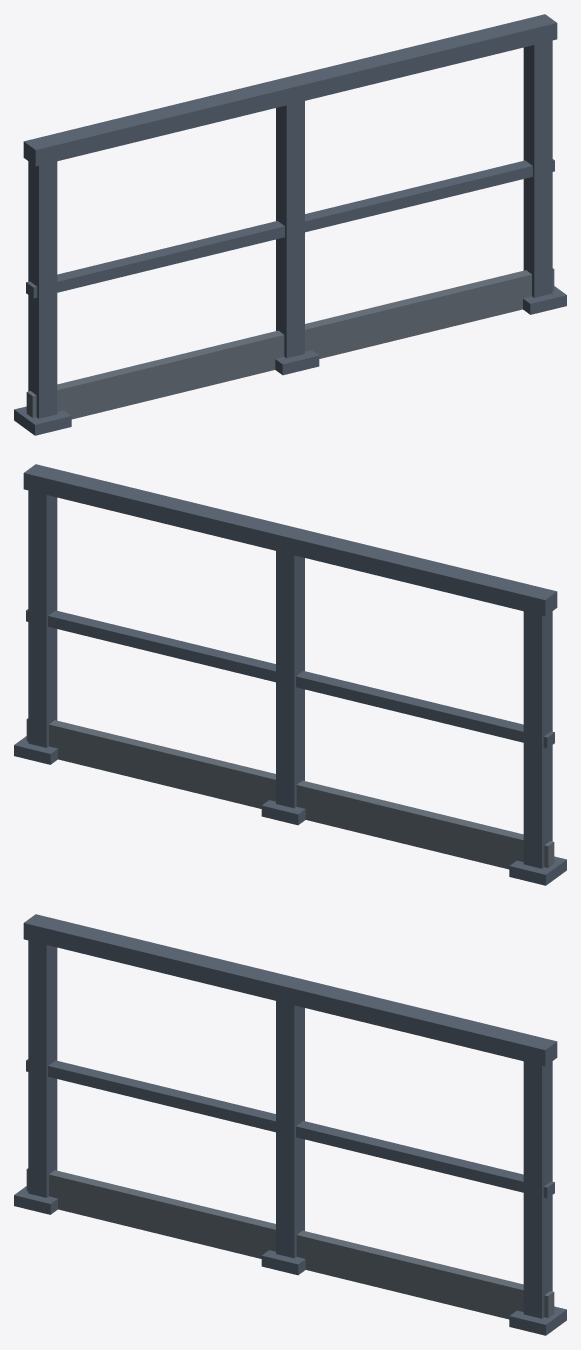
File: Lab_Railing_A.fbx
3 renders of one model, top to bottom at view 1: azimuth 30°, elevation 25°; view 2: azimuth 150°, elevation 25°; view 3: azimuth 330°, elevation 25°, orthographic.
Visible parts, largest first — view 1: Lab_Railing_Segment; view 2: Lab_Railing_Segment; view 3: Lab_Railing_Segment.
Part boxes in pixels (<box>): Lab_Railing_Segment: <box>14,14,566,435</box>; Lab_Railing_Segment: <box>14,464,566,885</box>; Lab_Railing_Segment: <box>14,914,566,1335</box>.
Size of the model in its own units: 2.04 by 1.03 by 0.14.
